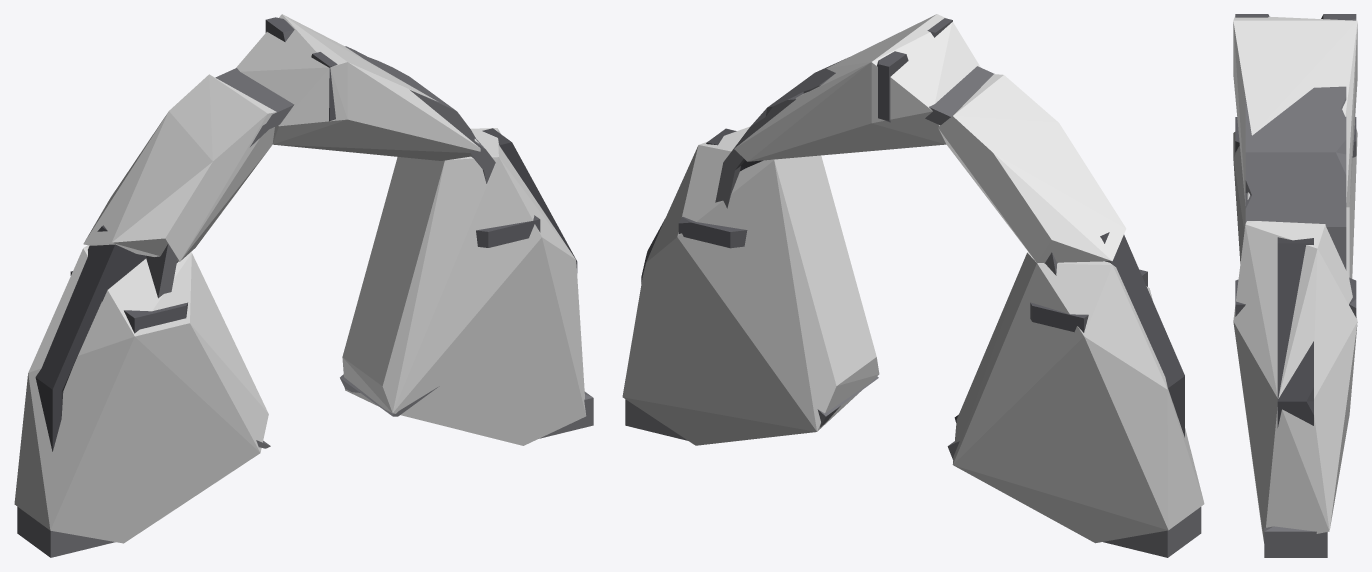
The model's file is SM_Prop_Medical_Scanner_01.fbx.
3 renders of one model, left to right at view 1: azimuth 30°, elevation 25°; view 2: azimuth 150°, elevation 25°; view 3: azimuth 270°, elevation 25°, orthographic. The views are drawn at different scales.
Parts seen in each view (by area): view 1: SM_Prop_Medical_Scanner_01_ConvexHulls, SM_Prop_Medical_Scanner_01_LOD0; view 2: SM_Prop_Medical_Scanner_01_ConvexHulls, SM_Prop_Medical_Scanner_01_LOD0; view 3: SM_Prop_Medical_Scanner_01_ConvexHulls, SM_Prop_Medical_Scanner_01_LOD0.
Part boxes in pixels (box(x1,y1,x2,y2)): SM_Prop_Medical_Scanner_01_ConvexHulls: box(14, 14, 586, 543); SM_Prop_Medical_Scanner_01_LOD0: box(17, 17, 593, 557); SM_Prop_Medical_Scanner_01_ConvexHulls: box(622, 14, 1204, 543); SM_Prop_Medical_Scanner_01_LOD0: box(625, 18, 1201, 557); SM_Prop_Medical_Scanner_01_ConvexHulls: box(1233, 16, 1357, 543); SM_Prop_Medical_Scanner_01_LOD0: box(1235, 14, 1356, 557).
Size of the model in its own units: 62.56 by 301 by 232.
1 material, 1 textured.
